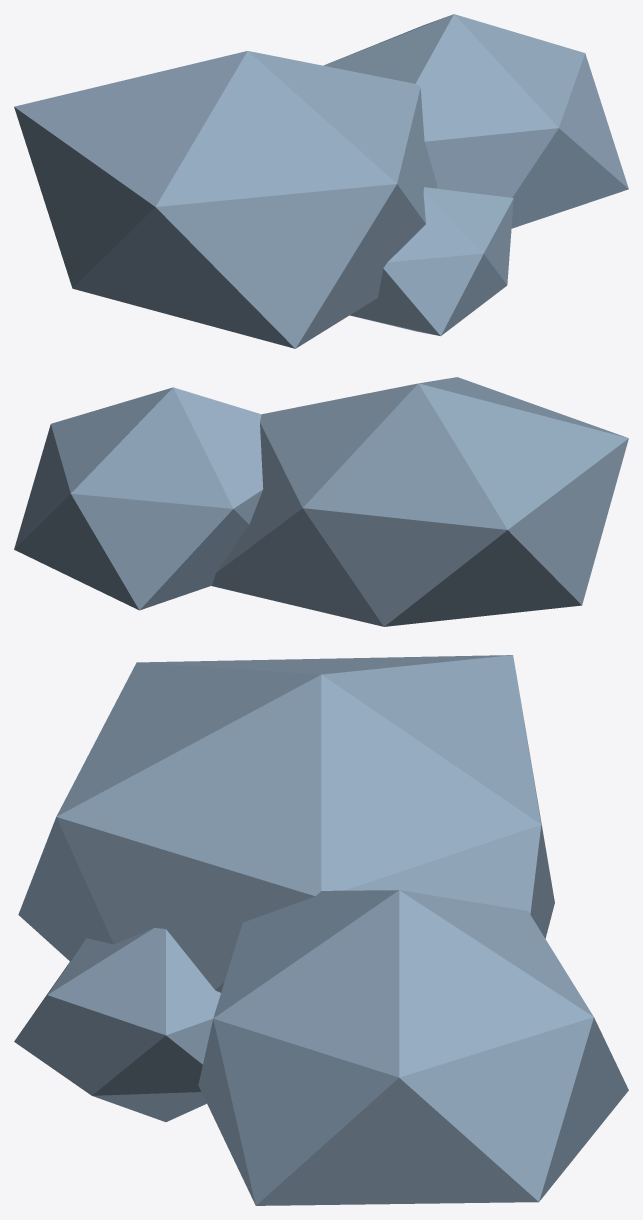
The model's file is rocks.glb.
3 renders of one model, top to bottom at view 1: azimuth 30°, elevation 25°; view 2: azimuth 150°, elevation 25°; view 3: azimuth 270°, elevation 25°, orthographic. The views are drawn at different scales.
Parts seen in each view (by area): view 1: Weathered rock 0, Weathered rock 1, Weathered rock 2; view 2: Weathered rock 0, Weathered rock 1; view 3: Weathered rock 0, Weathered rock 1, Weathered rock 2.
Part boxes in pixels (<box>): Weathered rock 0: <box>14,51,437,348</box>; Weathered rock 1: <box>324,14,628,228</box>; Weathered rock 2: <box>349,187,513,336</box>; Weathered rock 0: <box>211,377,628,626</box>; Weathered rock 1: <box>14,387,263,610</box>; Weathered rock 0: <box>18,655,554,992</box>; Weathered rock 1: <box>198,890,628,1205</box>; Weathered rock 2: <box>14,928,220,1121</box>.
Bounding box in the file's own units: 1.34 × 0.6322 × 0.9495.
